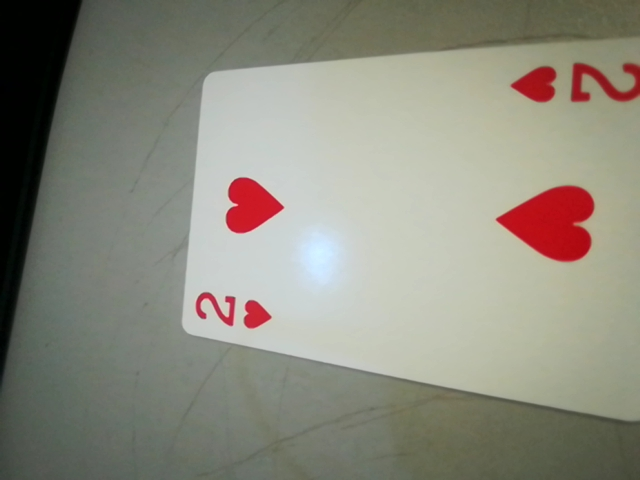hx 2: (516, 52, 640, 116), (177, 284, 270, 339)
